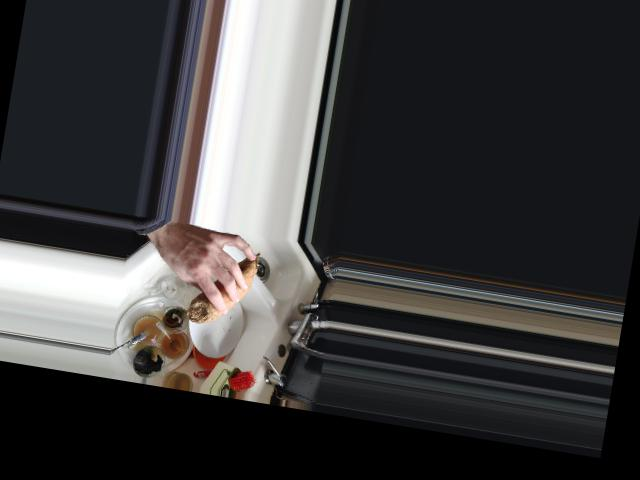sweet_potato: (187, 242, 260, 328)
